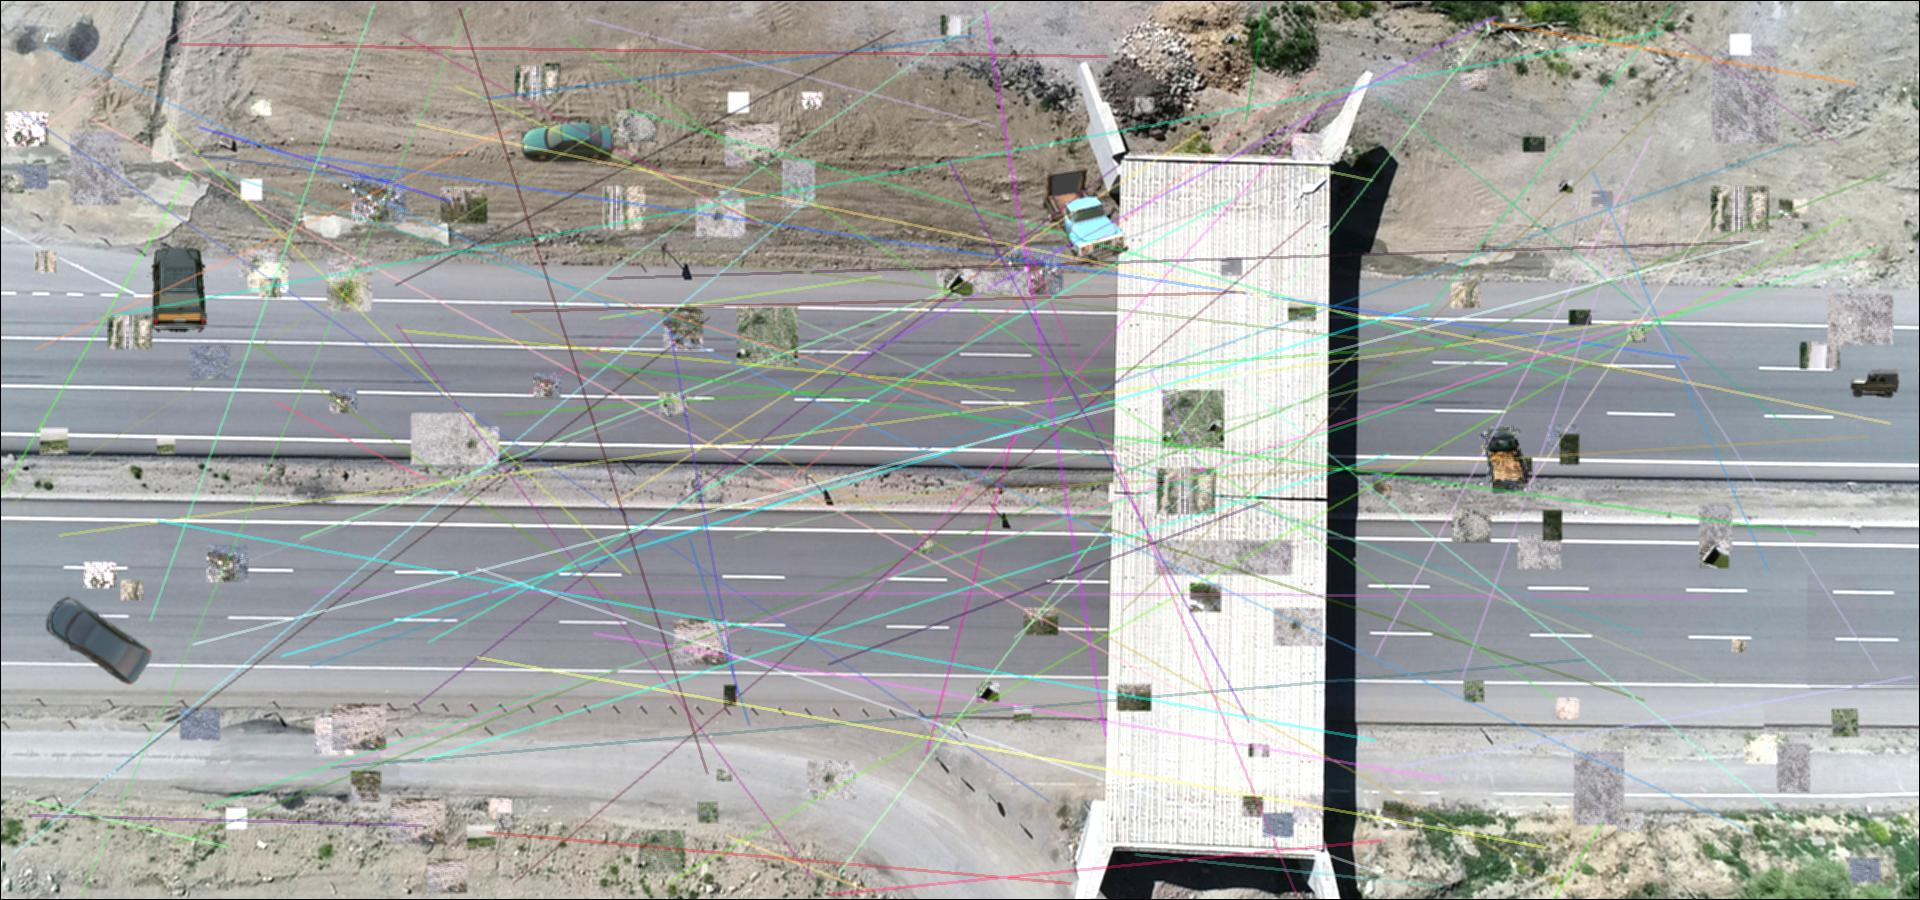arac: (45, 598, 153, 684), (1043, 167, 1130, 266), (147, 249, 208, 332), (520, 122, 615, 162), (1478, 425, 1531, 493), (1850, 369, 1899, 398)
